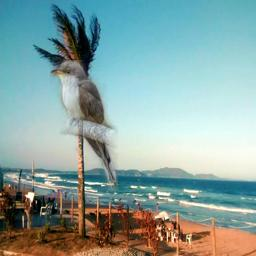Cuckoo: (50, 60, 118, 190)
